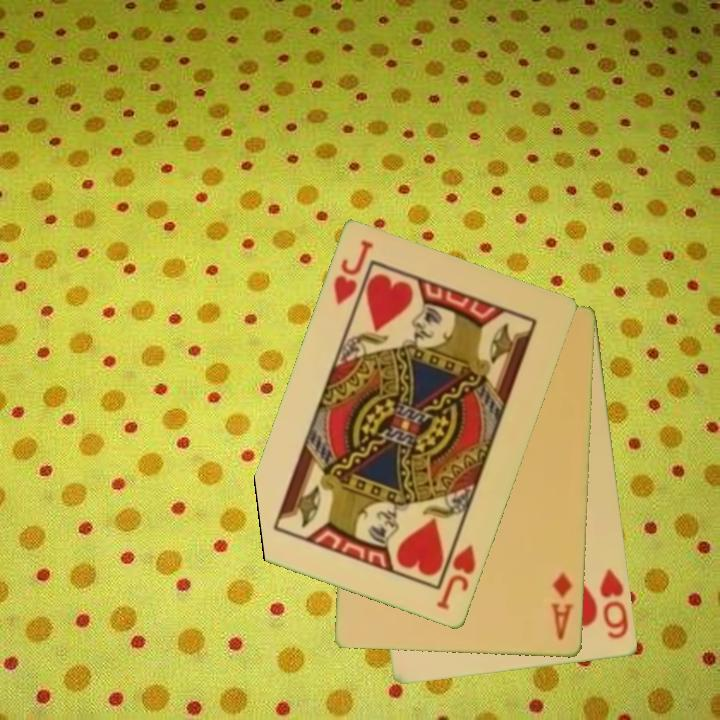6h: (596, 566, 632, 642)
Ad: (548, 570, 577, 644)
Jh: (330, 237, 377, 309), (433, 541, 479, 614)
